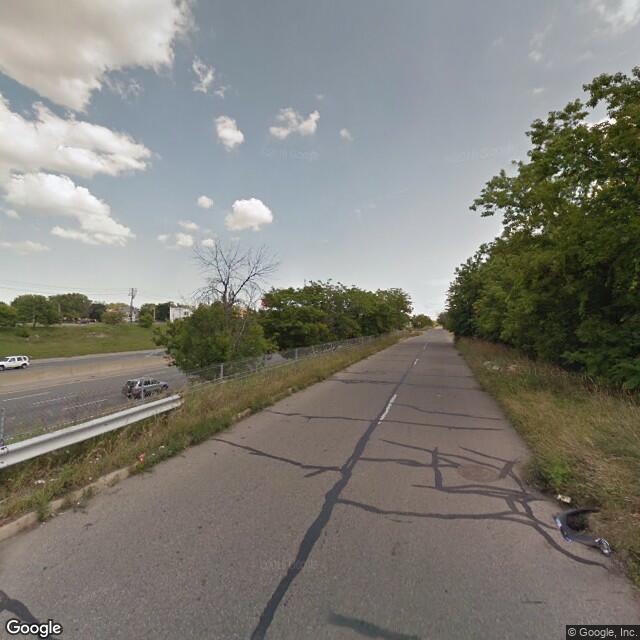litter: (557, 502, 611, 560), (31, 471, 60, 488), (553, 489, 577, 505), (130, 448, 148, 466), (155, 438, 173, 450)
